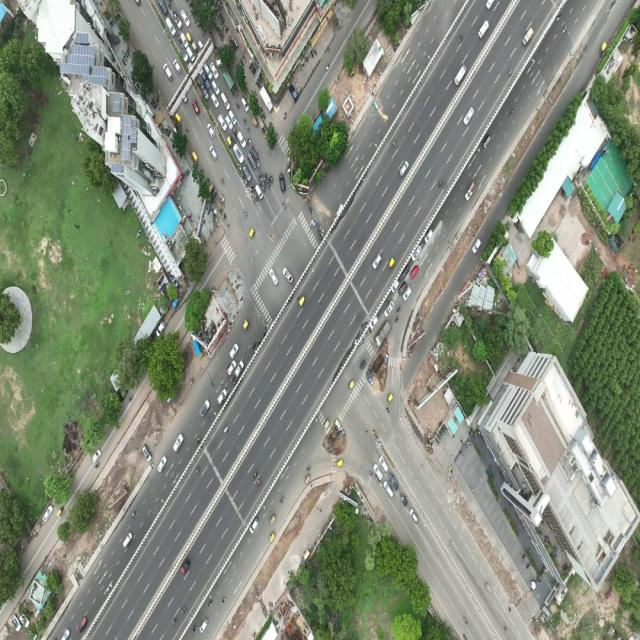3W: (599, 41, 607, 54), (485, 582, 492, 594), (230, 132, 237, 142), (388, 258, 395, 268), (186, 33, 192, 44), (270, 514, 276, 525), (192, 42, 198, 52), (176, 112, 182, 122), (192, 151, 198, 161), (252, 117, 258, 127), (211, 190, 217, 200), (243, 320, 249, 330), (299, 296, 305, 306), (270, 532, 276, 542), (56, 508, 62, 517), (249, 228, 254, 238), (305, 474, 310, 484), (324, 420, 329, 430), (349, 380, 354, 390), (208, 184, 214, 192), (387, 394, 393, 402), (361, 360, 366, 369), (227, 136, 231, 147), (337, 460, 343, 467)
Cars: (463, 106, 474, 125), (173, 434, 184, 452), (166, 17, 176, 36), (233, 144, 243, 163), (180, 9, 190, 27), (220, 92, 230, 110), (247, 152, 257, 170), (11, 614, 21, 632), (388, 473, 398, 491), (42, 505, 53, 521), (218, 115, 228, 132), (142, 444, 152, 461), (412, 245, 422, 262), (478, 21, 488, 38), (19, 613, 30, 628), (210, 62, 219, 80), (384, 480, 393, 498), (122, 532, 132, 548), (157, 456, 167, 472), (217, 388, 227, 404), (384, 301, 394, 317), (372, 253, 382, 269), (400, 265, 410, 281), (179, 45, 188, 62), (163, 63, 172, 80), (181, 558, 190, 575), (379, 456, 388, 473), (158, 0, 168, 15), (284, 268, 294, 283), (77, 617, 87, 632), (200, 401, 210, 416), (186, 46, 195, 62), (211, 80, 220, 96), (238, 130, 246, 148), (255, 184, 264, 200), (156, 321, 165, 337), (373, 464, 382, 480), (399, 161, 408, 177), (270, 268, 278, 285), (235, 361, 244, 376), (369, 315, 378, 330), (398, 281, 407, 296), (403, 286, 412, 301), (424, 229, 433, 244), (472, 239, 481, 254), (180, 32, 188, 48), (204, 63, 212, 79), (202, 73, 210, 89), (192, 99, 200, 115), (229, 110, 237, 126), (243, 166, 251, 182), (230, 343, 238, 359), (228, 360, 236, 375), (200, 618, 208, 633), (250, 518, 258, 533), (92, 449, 101, 462), (409, 509, 418, 522), (410, 266, 419, 279), (173, 60, 181, 74), (201, 84, 208, 100), (211, 94, 219, 108), (207, 124, 215, 138), (279, 174, 285, 192), (61, 628, 70, 640), (225, 116, 233, 129), (289, 86, 297, 99), (242, 98, 249, 112), (210, 146, 217, 160), (483, 136, 491, 148), (400, 493, 407, 506), (392, 280, 399, 293), (486, 0, 494, 10), (357, 338, 363, 347), (135, 0, 140, 5)
LCV: (454, 64, 466, 86), (170, 8, 182, 29), (464, 181, 476, 201), (522, 28, 533, 47)
M2W: (257, 338, 262, 346), (464, 616, 468, 625), (555, 15, 561, 21), (508, 109, 513, 116), (463, 632, 467, 640), (416, 258, 421, 264), (227, 361, 231, 368), (196, 437, 200, 444), (253, 471, 257, 478), (256, 480, 260, 487), (132, 511, 136, 518), (172, 617, 176, 624), (193, 626, 197, 633), (280, 497, 284, 504), (509, 69, 513, 76), (236, 103, 240, 109), (248, 136, 251, 144), (248, 146, 252, 152), (264, 173, 268, 179), (221, 178, 225, 184), (244, 211, 247, 219), (95, 462, 99, 468), (209, 600, 212, 608), (508, 606, 512, 612), (378, 481, 382, 487), (375, 474, 378, 482), (458, 36, 462, 42), (562, 27, 566, 33), (178, 35, 181, 42), (260, 169, 263, 176), (268, 176, 271, 183), (267, 181, 270, 188), (262, 185, 265, 192), (251, 184, 254, 191), (255, 193, 258, 200), (234, 379, 237, 386), (196, 466, 199, 473), (222, 598, 225, 605), (224, 427, 228, 432), (243, 118, 246, 124), (251, 144, 254, 150), (284, 111, 286, 120), (263, 177, 266, 183), (263, 182, 266, 188), (253, 342, 256, 348), (231, 376, 234, 382), (182, 608, 185, 614), (307, 466, 310, 472), (371, 472, 374, 478), (395, 316, 398, 322), (397, 307, 400, 313), (439, 180, 442, 186), (326, 65, 329, 71), (258, 180, 262, 184), (198, 80, 201, 85), (504, 626, 507, 631), (258, 163, 260, 170), (271, 176, 273, 183), (234, 127, 236, 134), (248, 126, 250, 132), (246, 139, 248, 145), (264, 332, 266, 338), (444, 182, 446, 188), (260, 176, 262, 181)
MAV: (223, 69, 238, 99), (260, 86, 273, 112)
Truck: (375, 320, 391, 347)
